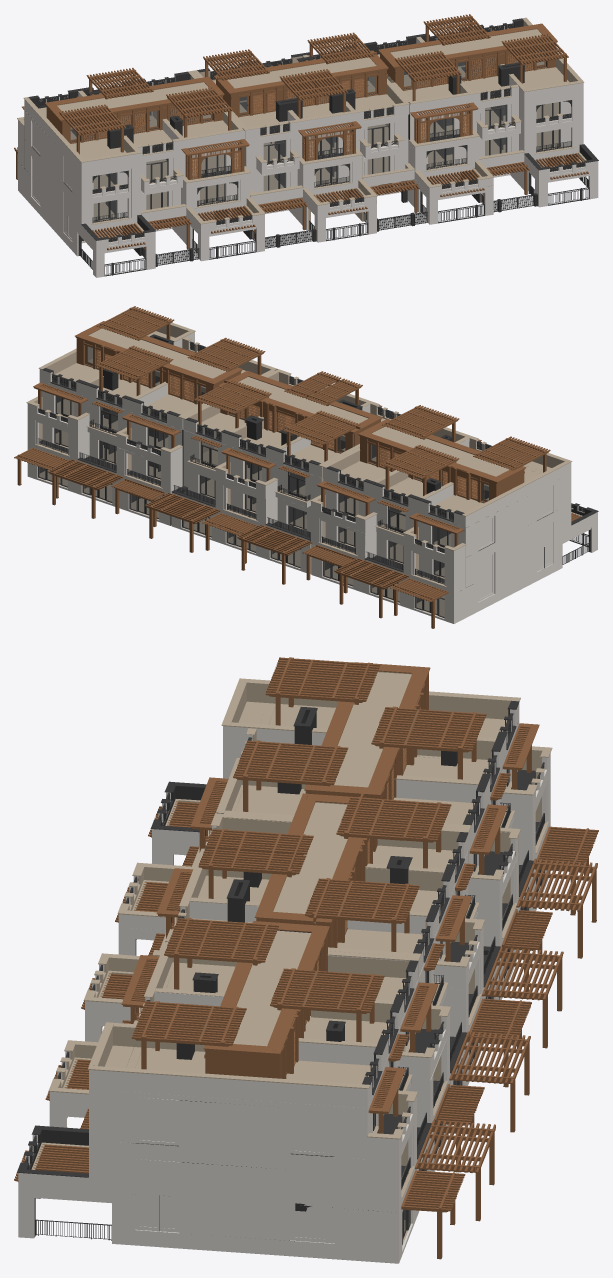
File: Arabian_b7_Import3DFiles.glb
3 renders of one model, top to bottom at view 1: azimuth 30°, elevation 25°; view 2: azimuth 150°, elevation 25°; view 3: azimuth 270°, elevation 25°, orthographic. The views are drawn at different scales.
Visible parts, largest first — view 1: mesh_material_from_multipatch, mesh_material_from_multipatch_2, mesh_material_from_multipatch_7, mesh_material_from_multipatch_6, mesh_material_from_multipatch_3, mesh_material_from_multipatch_5, mesh_material_from_multipatch_1, mesh_material_from_multipatch_4; view 2: mesh_material_from_multipatch_2, mesh_material_from_multipatch, mesh_material_from_multipatch_7, mesh_material_from_multipatch_6, mesh_material_from_multipatch_3, mesh_material_from_multipatch_5, mesh_material_from_multipatch_1; view 3: mesh_material_from_multipatch_2, mesh_material_from_multipatch, mesh_material_from_multipatch_7, mesh_material_from_multipatch_3, mesh_material_from_multipatch_6, mesh_material_from_multipatch_1.
Boxes of the visible parts, box(x1,y1,x2,y2) form: mesh_material_from_multipatch: box(18, 21, 598, 277); mesh_material_from_multipatch_2: box(14, 14, 588, 250); mesh_material_from_multipatch_7: box(39, 23, 586, 241); mesh_material_from_multipatch_6: box(21, 18, 598, 269); mesh_material_from_multipatch_3: box(17, 17, 584, 232); mesh_material_from_multipatch_5: box(70, 50, 559, 220); mesh_material_from_multipatch_1: box(81, 102, 581, 275); mesh_material_from_multipatch_4: box(104, 108, 589, 276); mesh_material_from_multipatch_2: box(14, 306, 580, 628); mesh_material_from_multipatch: box(27, 332, 597, 623); mesh_material_from_multipatch_7: box(35, 313, 582, 616); mesh_material_from_multipatch_6: box(21, 334, 598, 602); mesh_material_from_multipatch_3: box(26, 322, 572, 616); mesh_material_from_multipatch_5: box(38, 346, 488, 617); mesh_material_from_multipatch_1: box(38, 396, 583, 618); mesh_material_from_multipatch_2: box(14, 657, 598, 1259); mesh_material_from_multipatch: box(18, 703, 550, 1263); mesh_material_from_multipatch_7: box(31, 662, 595, 1263); mesh_material_from_multipatch_3: box(48, 671, 552, 1243); mesh_material_from_multipatch_6: box(17, 699, 596, 1241); mesh_material_from_multipatch_1: box(373, 769, 544, 1244).
Size of the model in its own units: 57.96 by 13.26 by 34.35.
